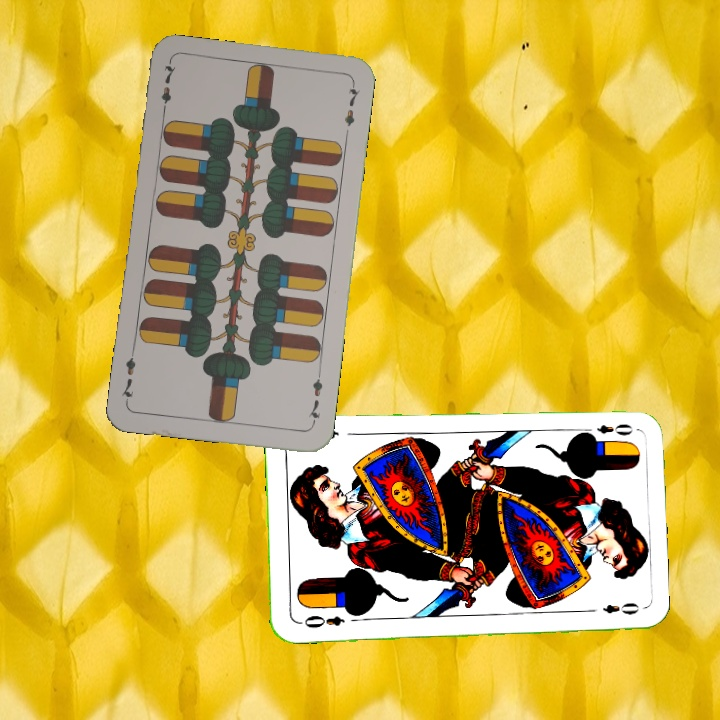E7: (304, 368, 326, 427), (157, 59, 179, 118)
EO: (579, 419, 636, 441), (294, 612, 347, 631)
